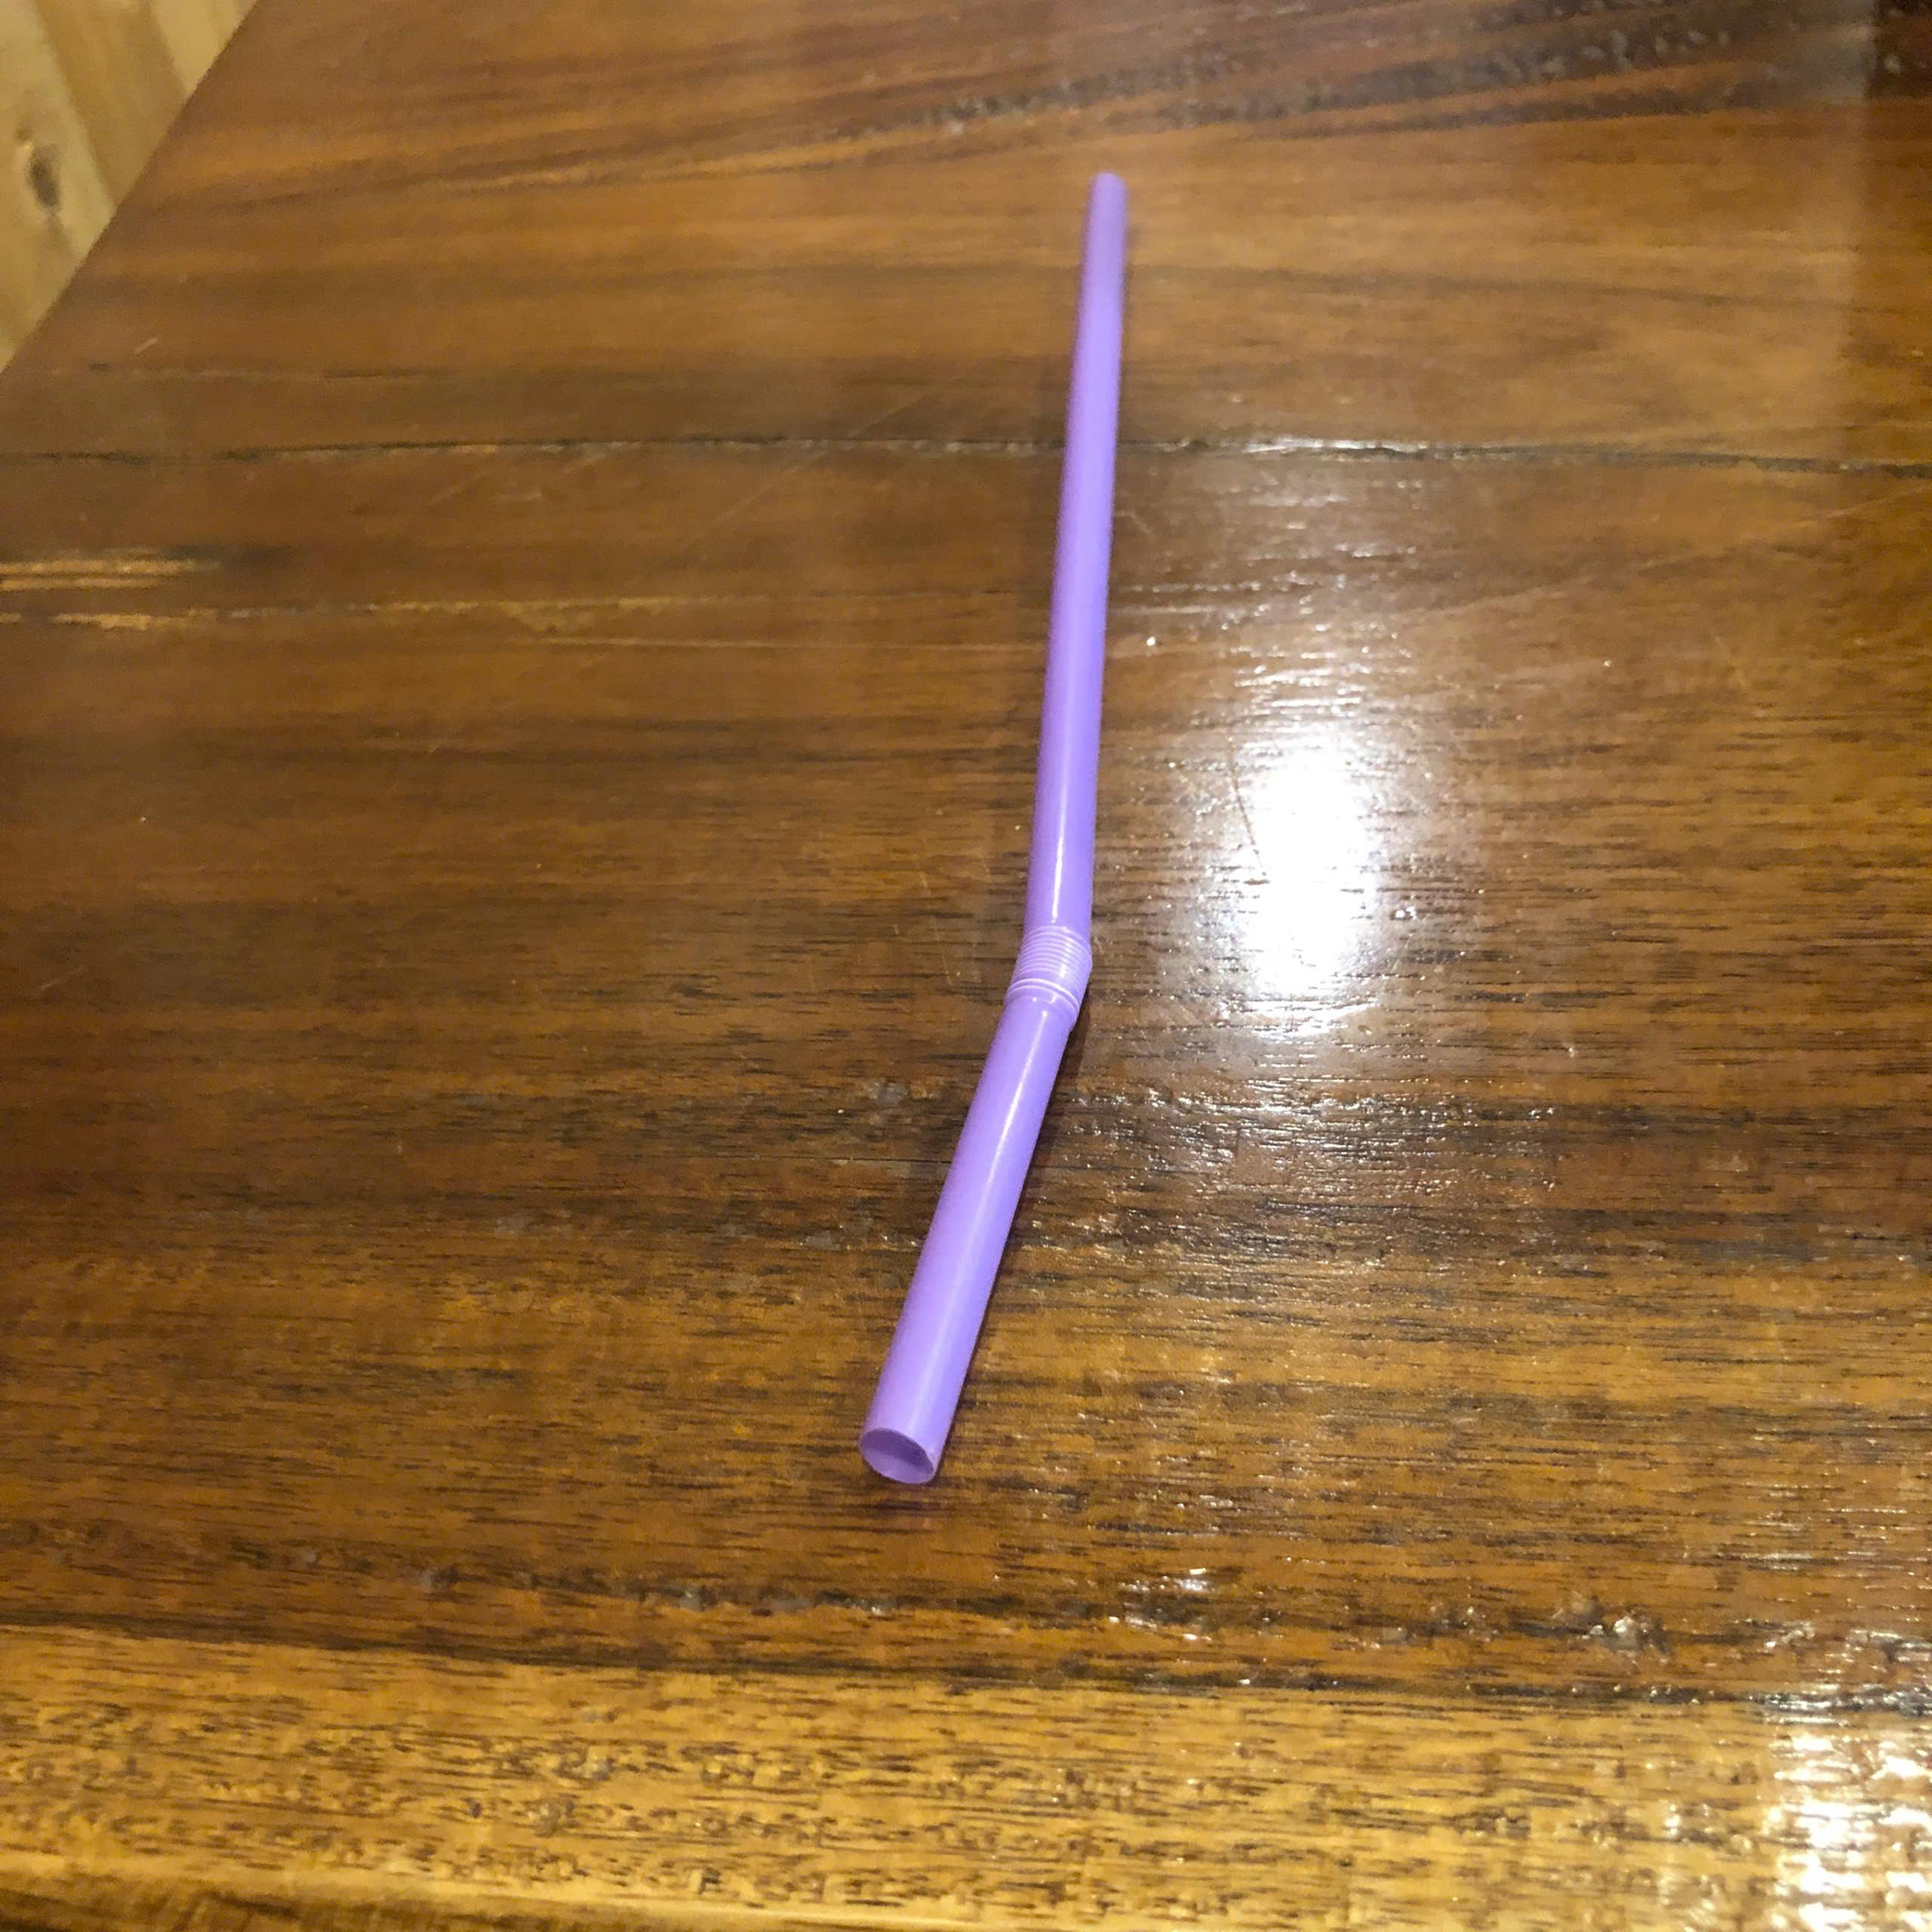Vo co: (856, 179, 1125, 1483)
